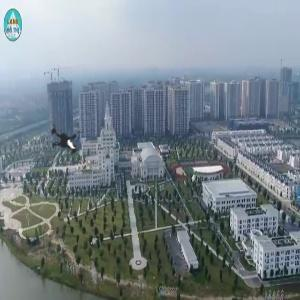drone: (26, 106, 101, 181)
